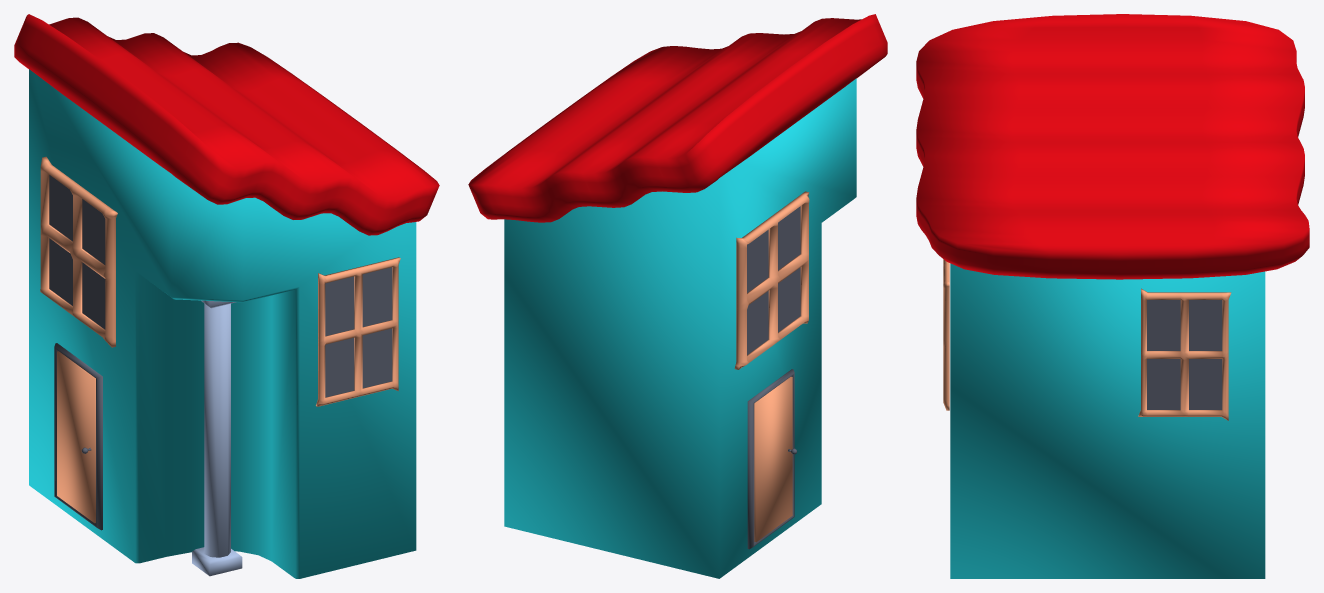
Rendered from House Tall.fbx.
3 renders of one model, left to right at view 1: azimuth 30°, elevation 25°; view 2: azimuth 150°, elevation 25°; view 3: azimuth 270°, elevation 25°, orthographic. The views are drawn at different scales.
Visible parts, largest first — view 1: Building Tall Angle, Building Tall Angle Roof, Building Tall Angle detail; view 2: Building Tall Angle, Building Tall Angle Roof, Building Tall Angle detail; view 3: Building Tall Angle Roof, Building Tall Angle, Building Tall Angle detail.
Boxes of the visible parts, x1=… form: Building Tall Angle: x1=29, y1=69, x2=416, y2=578; Building Tall Angle Roof: x1=14, y1=14, x2=439, y2=235; Building Tall Angle detail: x1=40, y1=156, x2=400, y2=576; Building Tall Angle: x1=504, y1=78, x2=856, y2=578; Building Tall Angle Roof: x1=468, y1=14, x2=887, y2=222; Building Tall Angle detail: x1=734, y1=191, x2=809, y2=549; Building Tall Angle Roof: x1=916, y1=14, x2=1309, y2=279; Building Tall Angle: x1=950, y1=263, x2=1265, y2=578; Building Tall Angle detail: x1=943, y1=259, x2=1231, y2=420.
Size of the model in its own units: 947 by 1583 by 1226.
